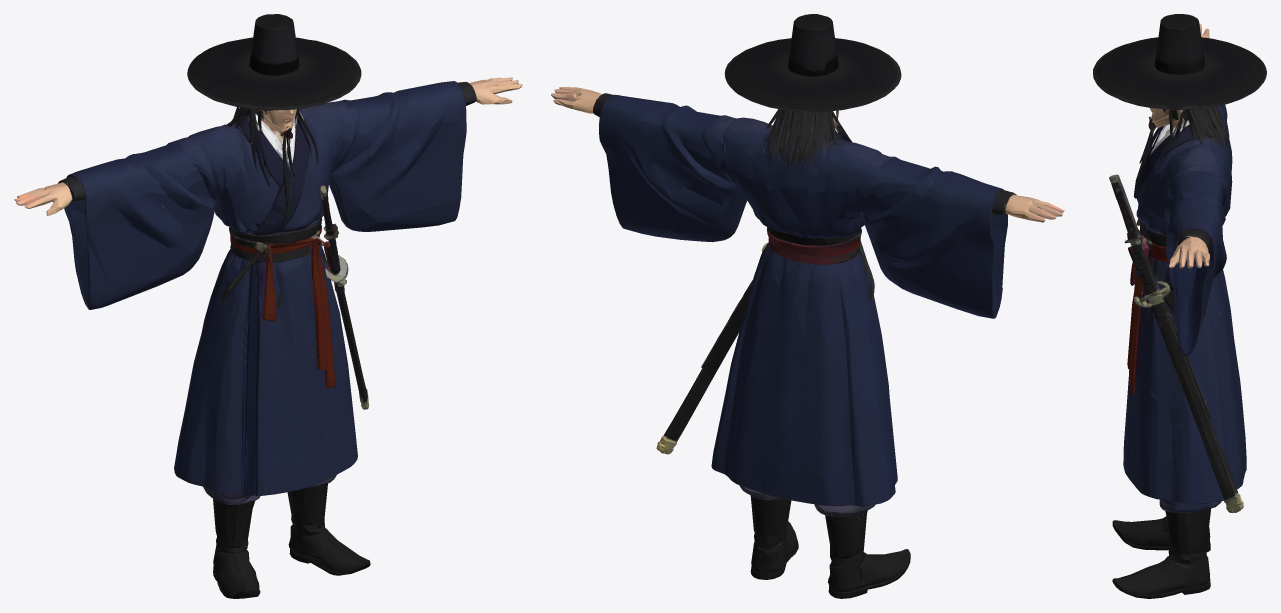
Rendered from doho_v2_textured.glb.
3 views of the same model, side by side, from view 1: azimuth 30°, elevation 25°; view 2: azimuth 150°, elevation 25°; view 3: azimuth 270°, elevation 25° (orthographic).
Bounding box in the file's own units: 1.82 × 1.9 × 0.5476.
Materials: 1 (1 with a texture image).
